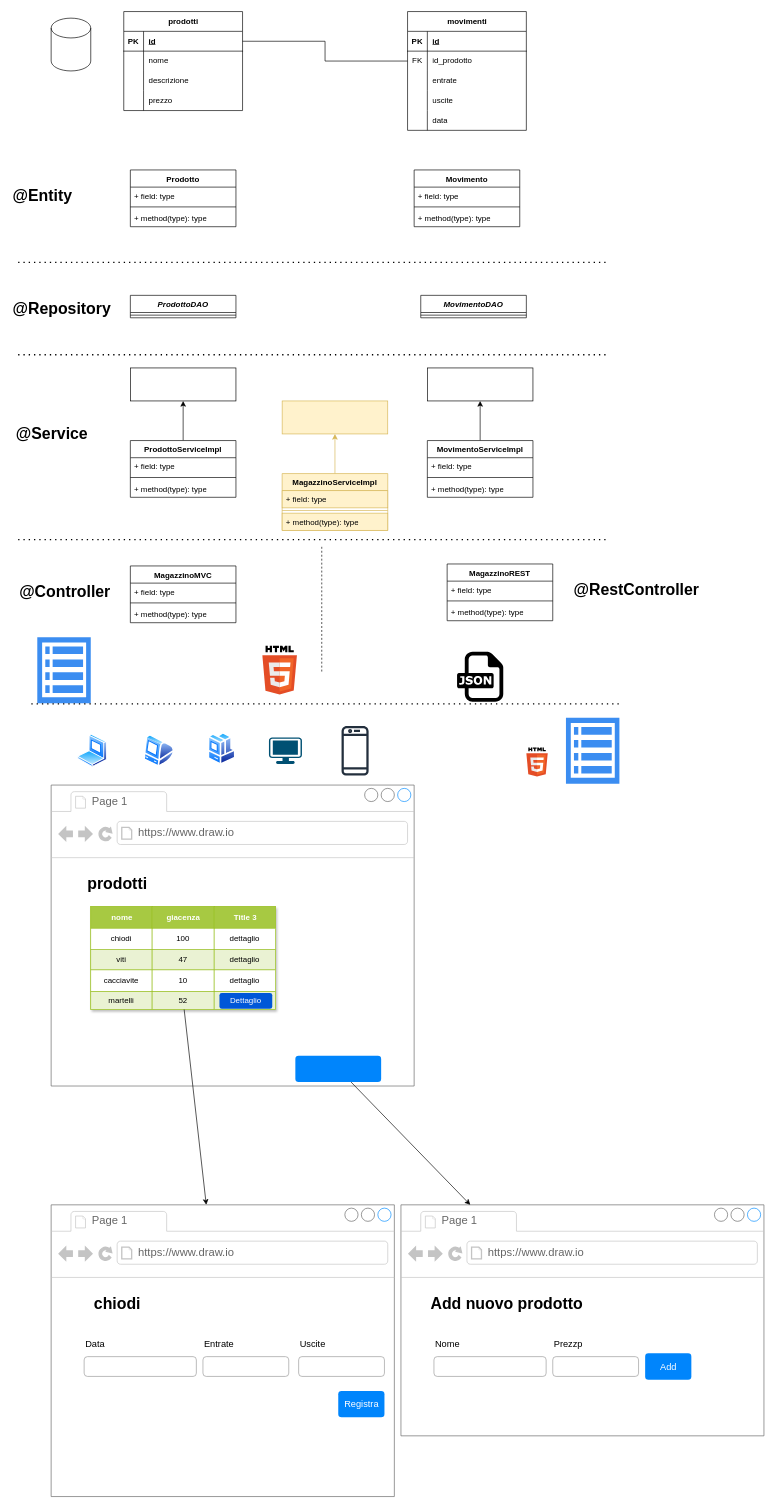
Image size: 776x1508. Some labels were removed from this diagram. The centre of each missing label's shape, as x and y in pixels:
"DB" goes at point (70, 44).
"Nuovo Prodotto" goes at point (338, 1068).
"«interface» MagazzinoService" goes at point (334, 417).
"«interface» MovimentoService" goes at point (480, 384).
"«interface» ProdottoService" goes at point (183, 384).
